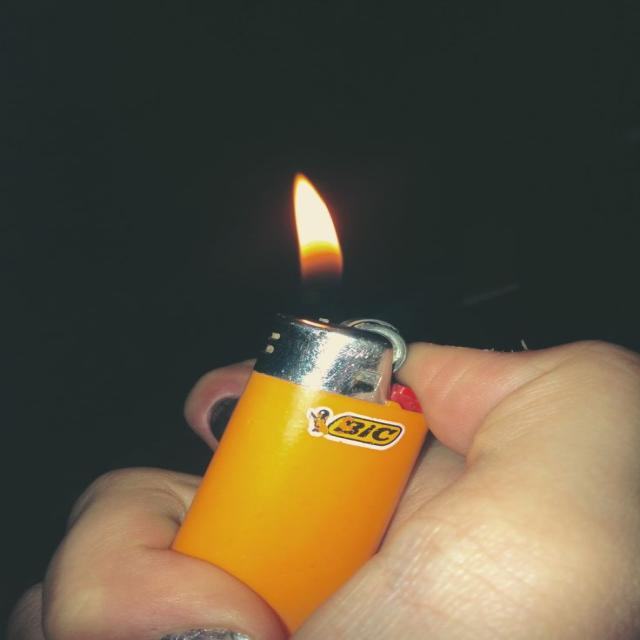fire: (292, 172, 344, 295)
